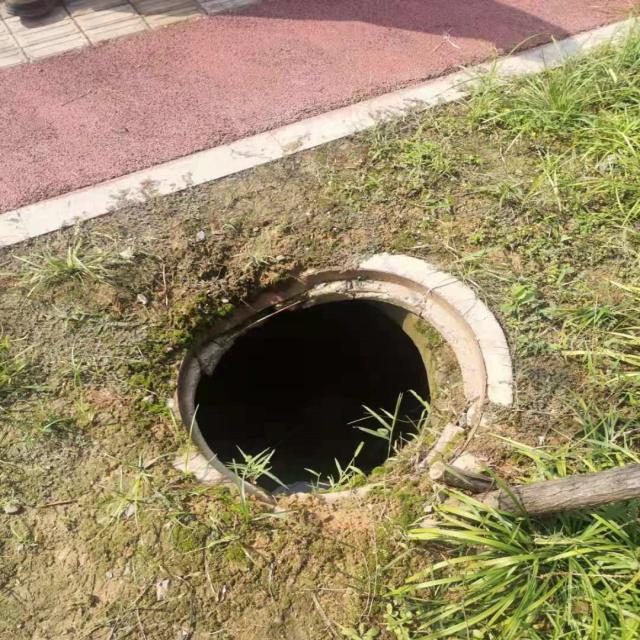Faulty: (164, 250, 514, 500)
